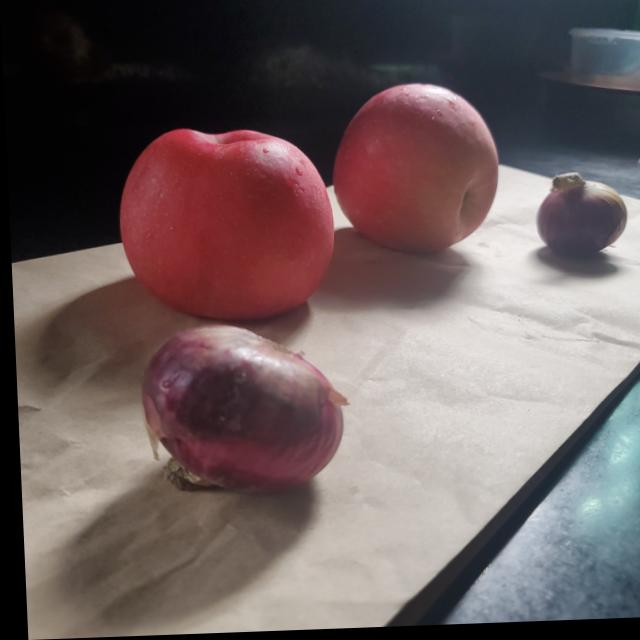apple: (108, 130, 331, 326), (333, 82, 506, 257)
onion: (143, 326, 346, 498), (531, 175, 625, 265)
